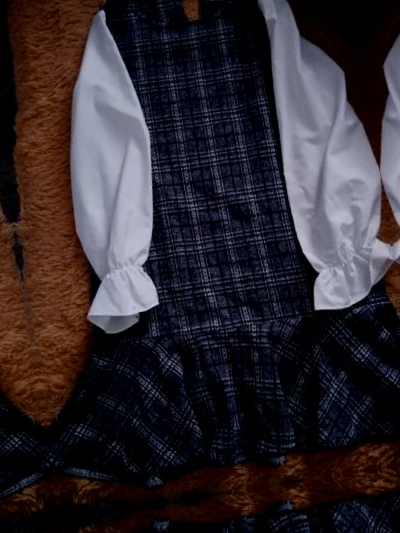Dress: (5, 0, 400, 500), (345, 0, 400, 446), (90, 476, 400, 533), (0, 13, 32, 533)
